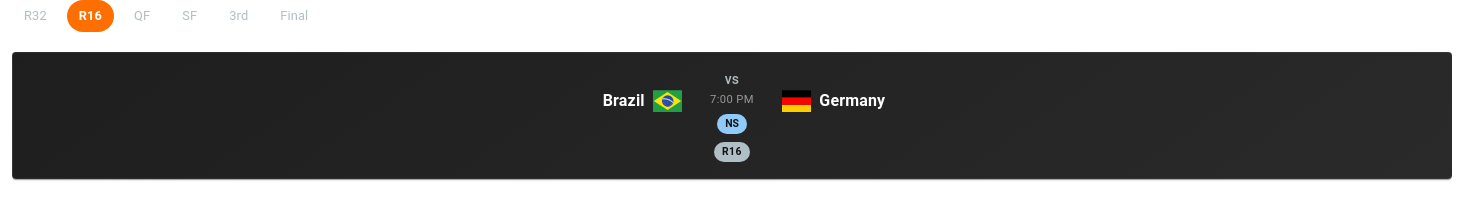
Test: KnockoutsPage › selecting a round with zero fixtures shows the placeholder
This screenshot has width=1464, height=198.
Note: Switch to Final — no fixtures there.
Click the button "Final": (294, 16) [268,0,320,32]
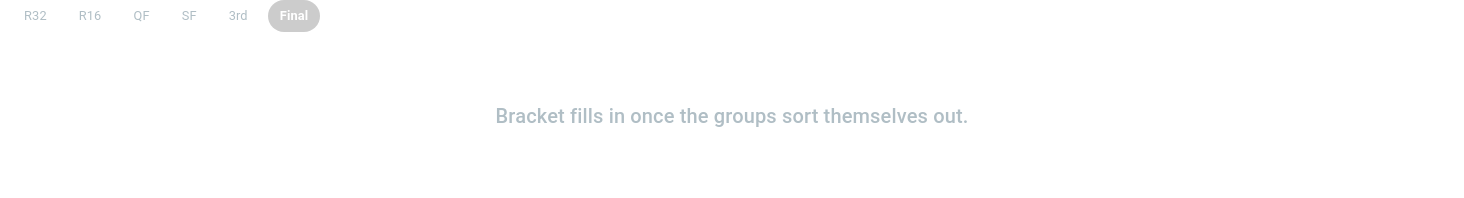
expect the element with test id "knockouts-placeholder" is shown: met, box [496,104,968,128]
